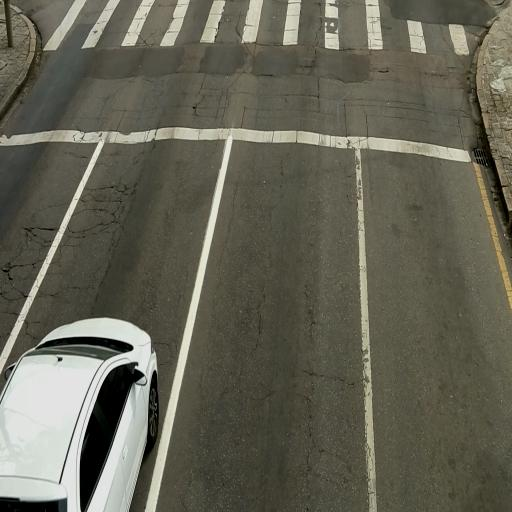car: (0, 317, 159, 510)
